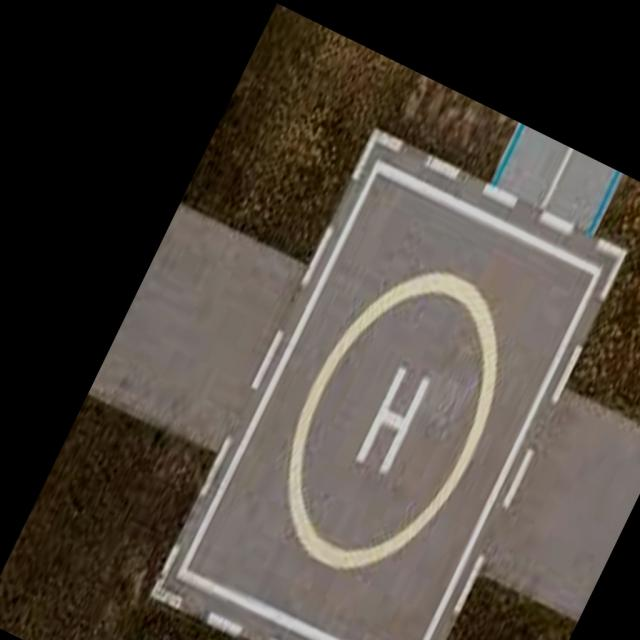helipad: (280, 264, 506, 576)
